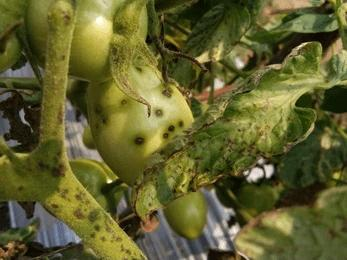Bacterial Spot: (127, 36, 327, 219)
